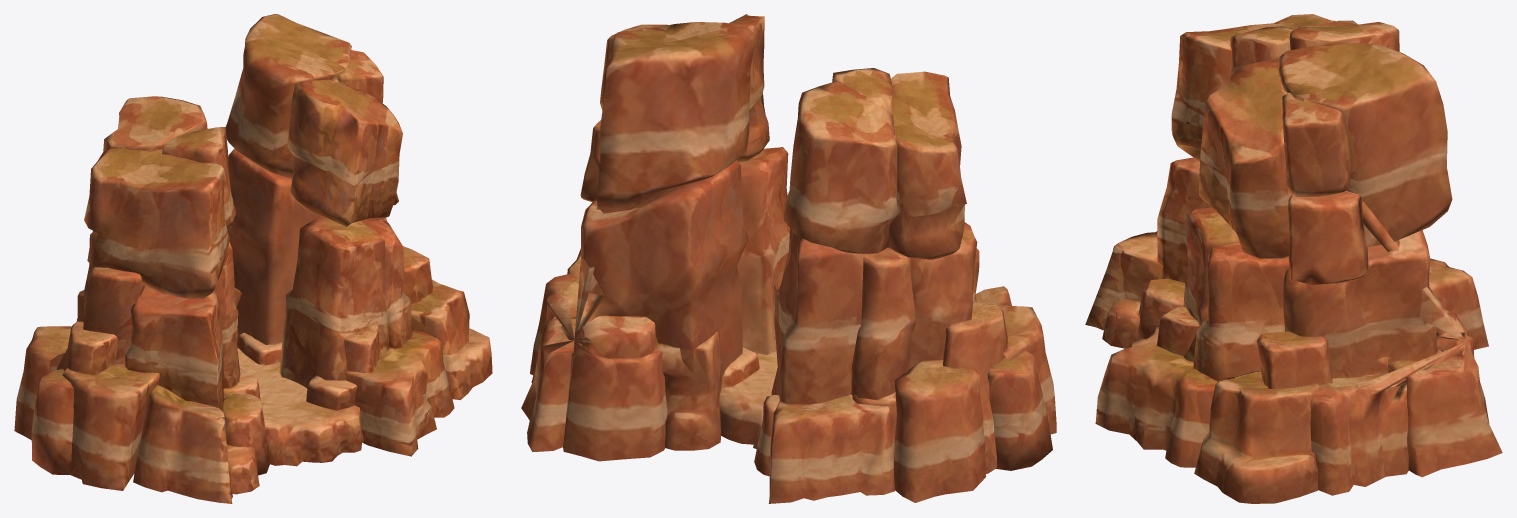
Rendered from kit-rc-split-pillars.glb.
3 views of the same model, side by side, from view 1: azimuth 30°, elevation 25°; view 2: azimuth 150°, elevation 25°; view 3: azimuth 270°, elevation 25° (orthographic). The views are drawn at different scales.
Visible parts, largest first — view 1: kit-rc-split-pillars; view 2: kit-rc-split-pillars; view 3: kit-rc-split-pillars.
Boxes of the visible parts, x1,y1,x2,y2 form: kit-rc-split-pillars: (14, 14, 492, 503); kit-rc-split-pillars: (521, 14, 1056, 503); kit-rc-split-pillars: (1085, 14, 1502, 503).
Bounding box in the file's own units: 32.83 × 24 × 24.86.
Materials: 1 (1 with a texture image).
